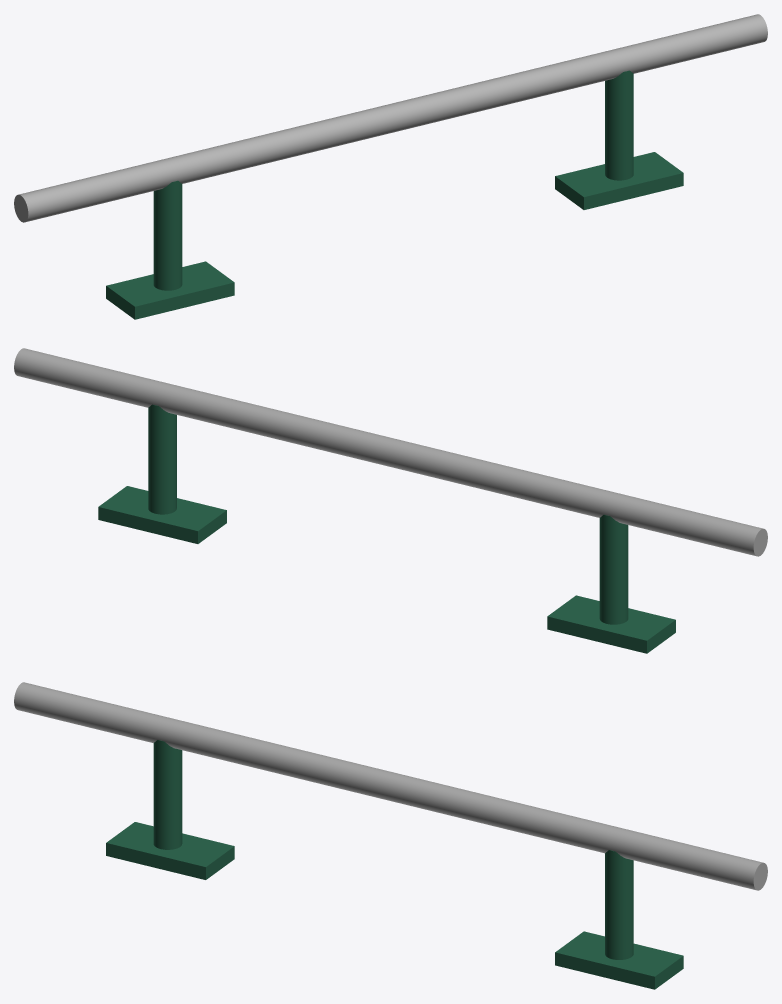
The model's file is grind_rail.fbx.
3 views of the same model, one above another, from view 1: azimuth 30°, elevation 25°; view 2: azimuth 150°, elevation 25°; view 3: azimuth 330°, elevation 25° (orthographic).
Parts seen in each view (by area): view 1: pCylinder3; view 2: pCylinder3; view 3: pCylinder3.
Boxes of the visible parts, x1,y1,x2,y2 form: pCylinder3: [14, 14, 767, 319]; pCylinder3: [14, 348, 767, 653]; pCylinder3: [14, 682, 767, 989].
Bounding box in the file's own units: 14.83 × 2.64 × 1.
